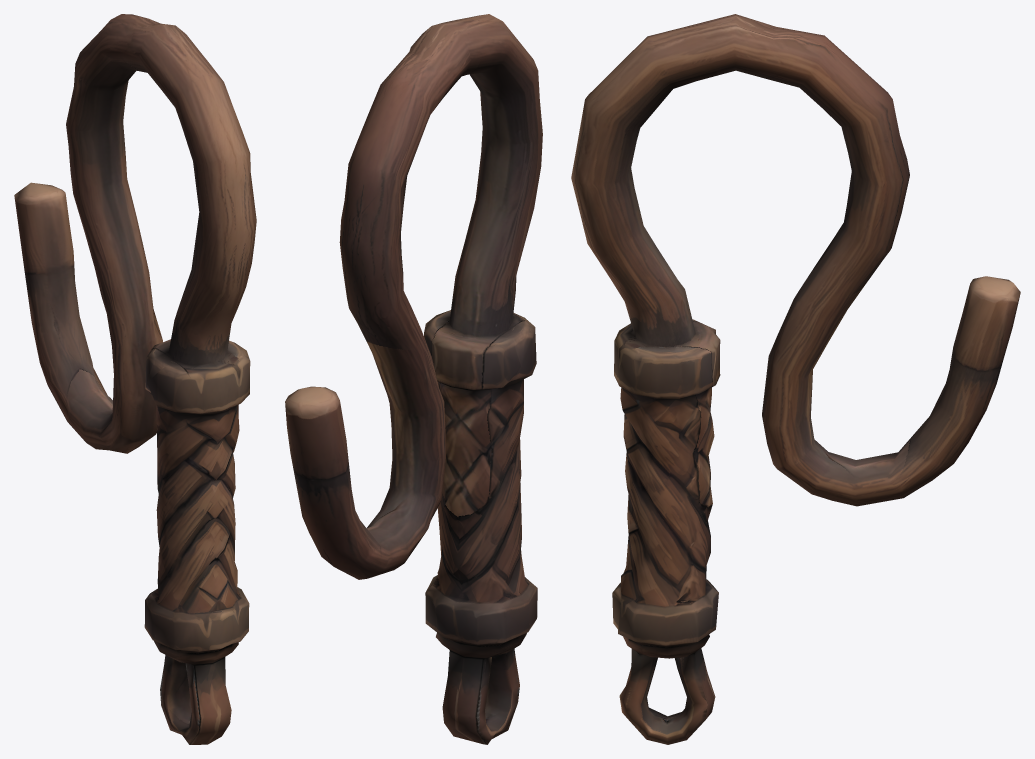
File: Prop_Weapon_Whip.fbx
The picture shows the model from 3 angles, left to right: view 1: azimuth 30°, elevation 25°; view 2: azimuth 150°, elevation 25°; view 3: azimuth 270°, elevation 25°; orthographic projection. The views are drawn at different scales.
Parts seen in each view (by area): view 1: texture_mapping; view 2: texture_mapping; view 3: texture_mapping.
Boxes of the visible parts, left/top/right/bottom form: texture_mapping: left=14, top=14, right=256, bottom=744; texture_mapping: left=285, top=14, right=542, bottom=744; texture_mapping: left=571, top=14, right=1020, bottom=744.
Bounding box in the file's own units: 0.1369 × 0.5628 × 1.
Materials: 1 (1 with a texture image).
